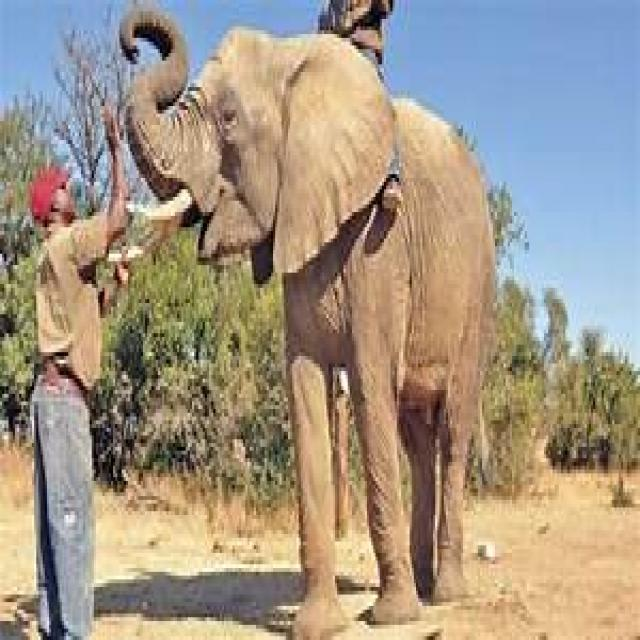elephant: (117, 8, 499, 640)
